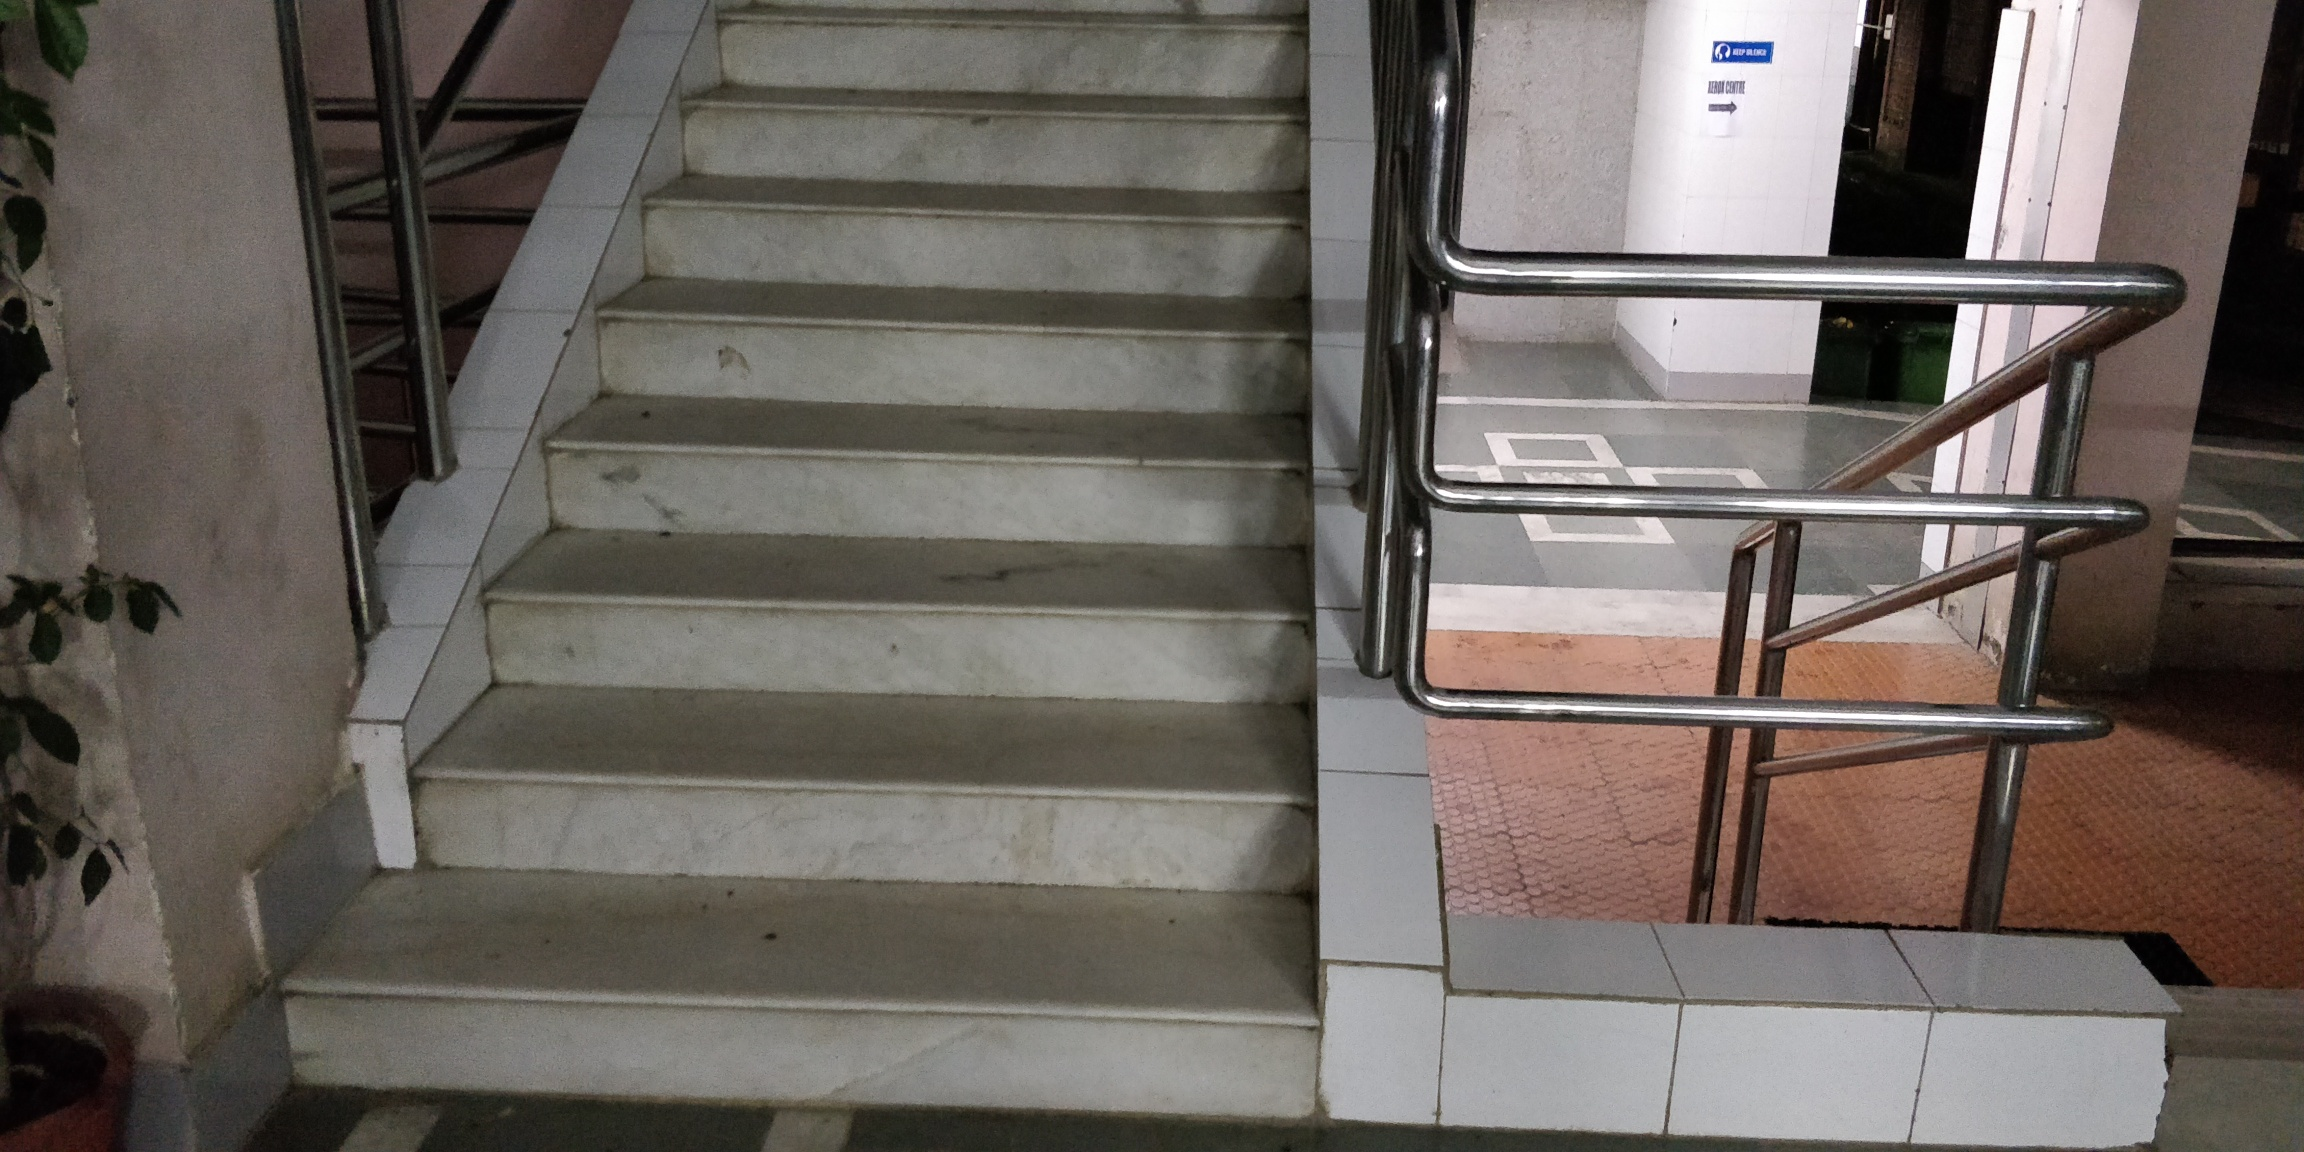stairs_up: (266, 16, 1347, 1101)
